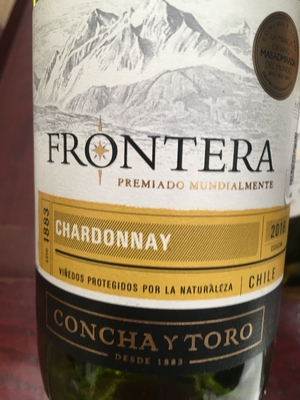frontera chardonnay: (31, 1, 298, 400)
